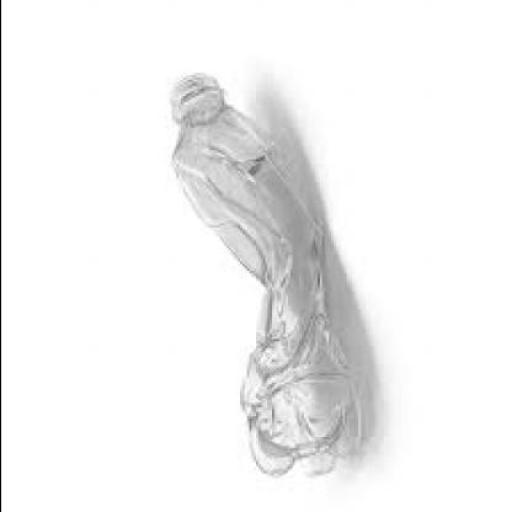plastic: (164, 72, 369, 474)
